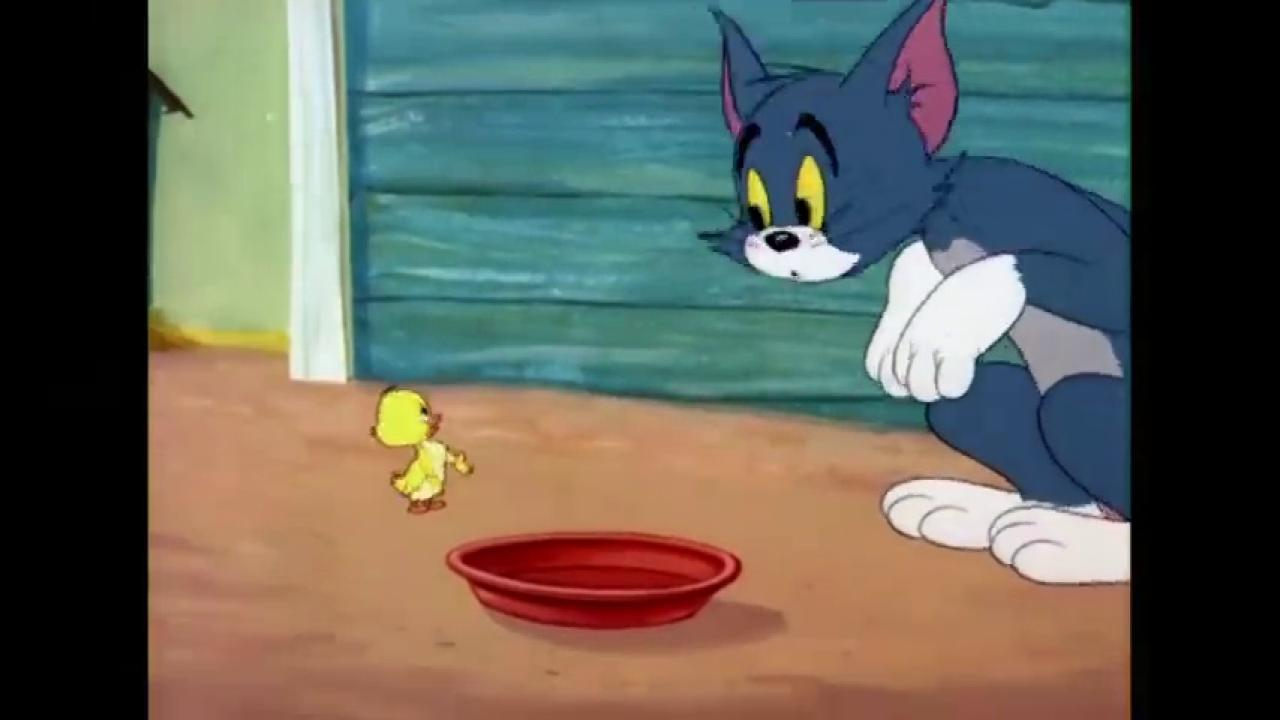Tom: (692, 0, 1131, 585)
